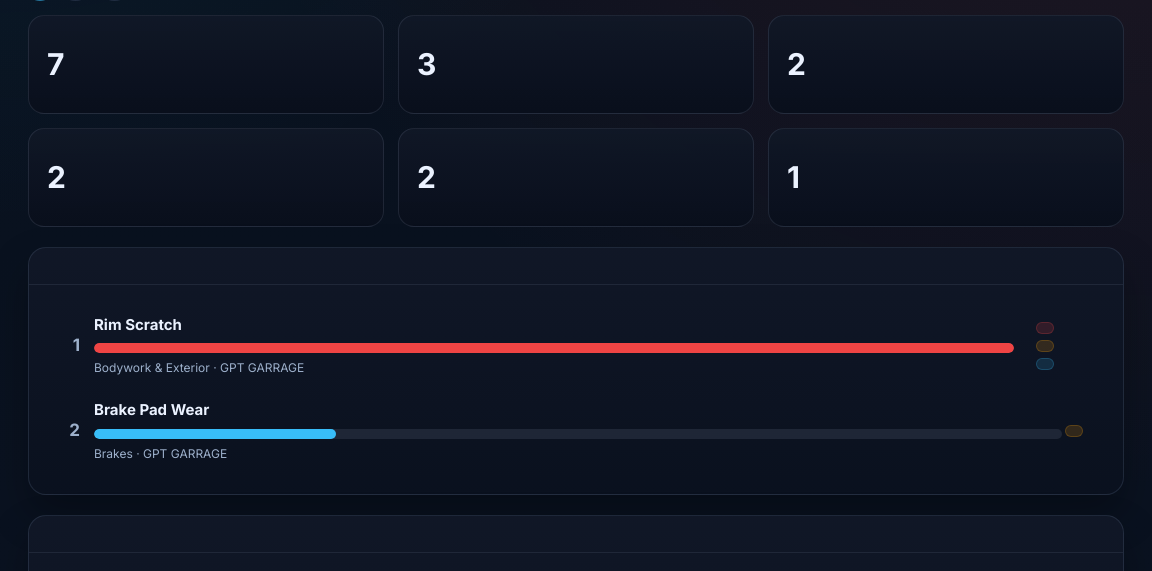
Test: clicking a ranked fault shows only that fault, and clicking it again clears
(page scrolled)
Click the button "1 Rim Scratch Bodywork & Exterior · GPT GARRAGE". click: {"x": 576, "y": 346}
box: [49,303,1103,388]
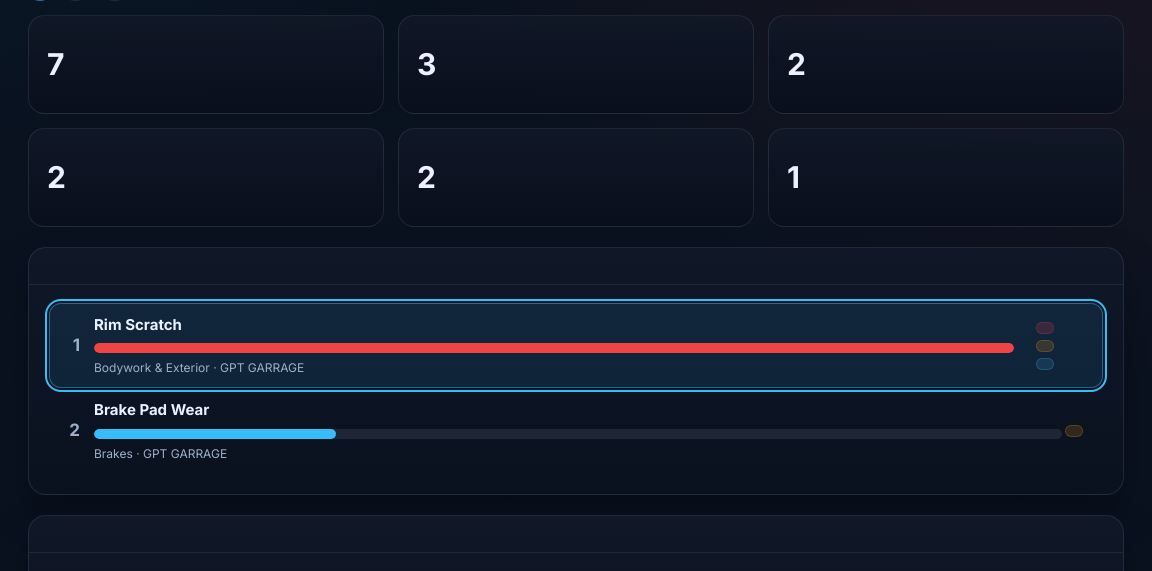
Click the button "1 Rim Scratch Bodywork & Exterior · GPT GARRAGE". click: {"x": 576, "y": 346}
box: [49,303,1103,388]
(page scrolled)
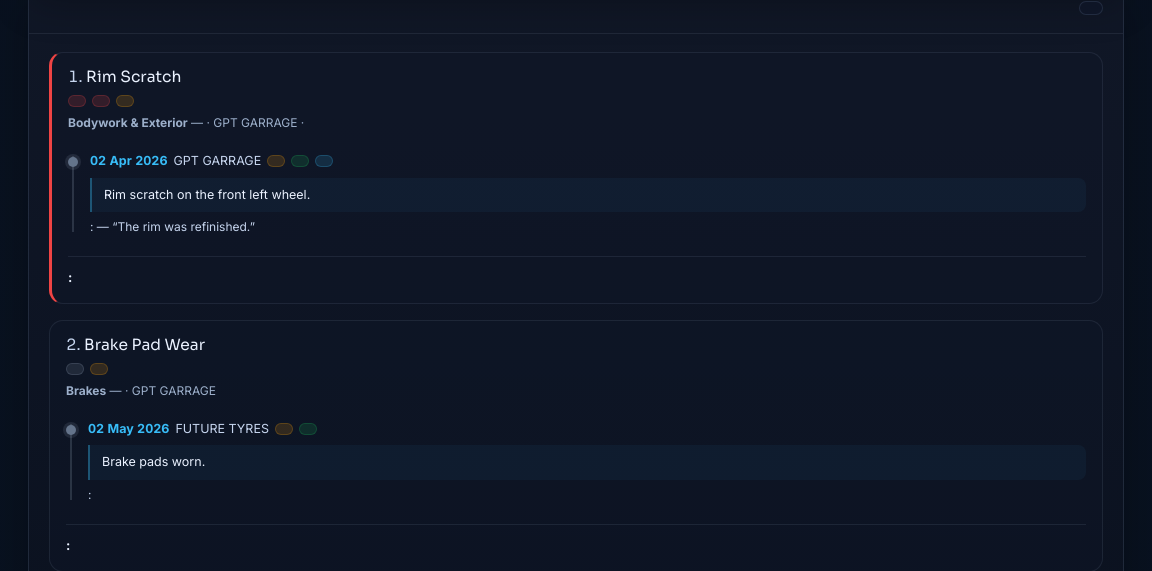
Expected: the heading "2. Brake Pad Wear" is shown, [66,335,205,354]
